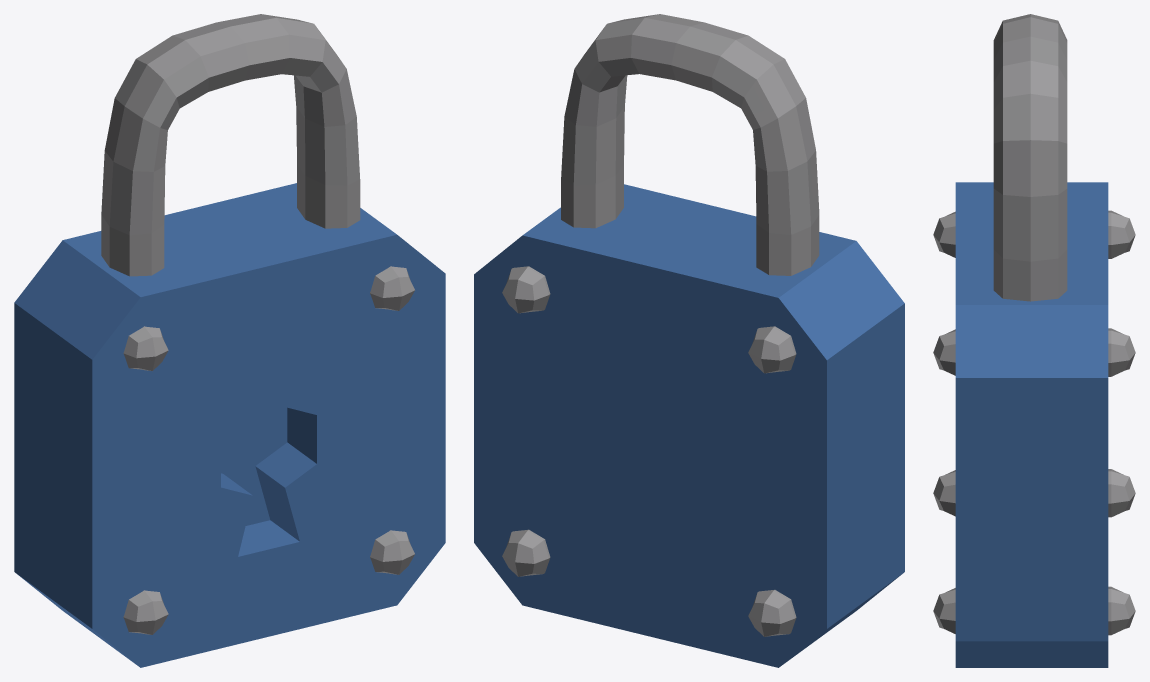
File: lock_blue.glb
The picture shows the model from 3 angles, left to right: view 1: azimuth 30°, elevation 25°; view 2: azimuth 150°, elevation 25°; view 3: azimuth 270°, elevation 25°; orthographic projection. The views are drawn at different scales.
Parts seen in each view (by area): view 1: Padlock; view 2: Padlock; view 3: Padlock.
Part boxes in pixels (bbox=[...]): Padlock: bbox=[14, 14, 445, 667]; Padlock: bbox=[474, 14, 904, 667]; Padlock: bbox=[933, 14, 1135, 667].
Bounding box in the file's own units: 0.6153 × 0.9686 × 0.3117.
